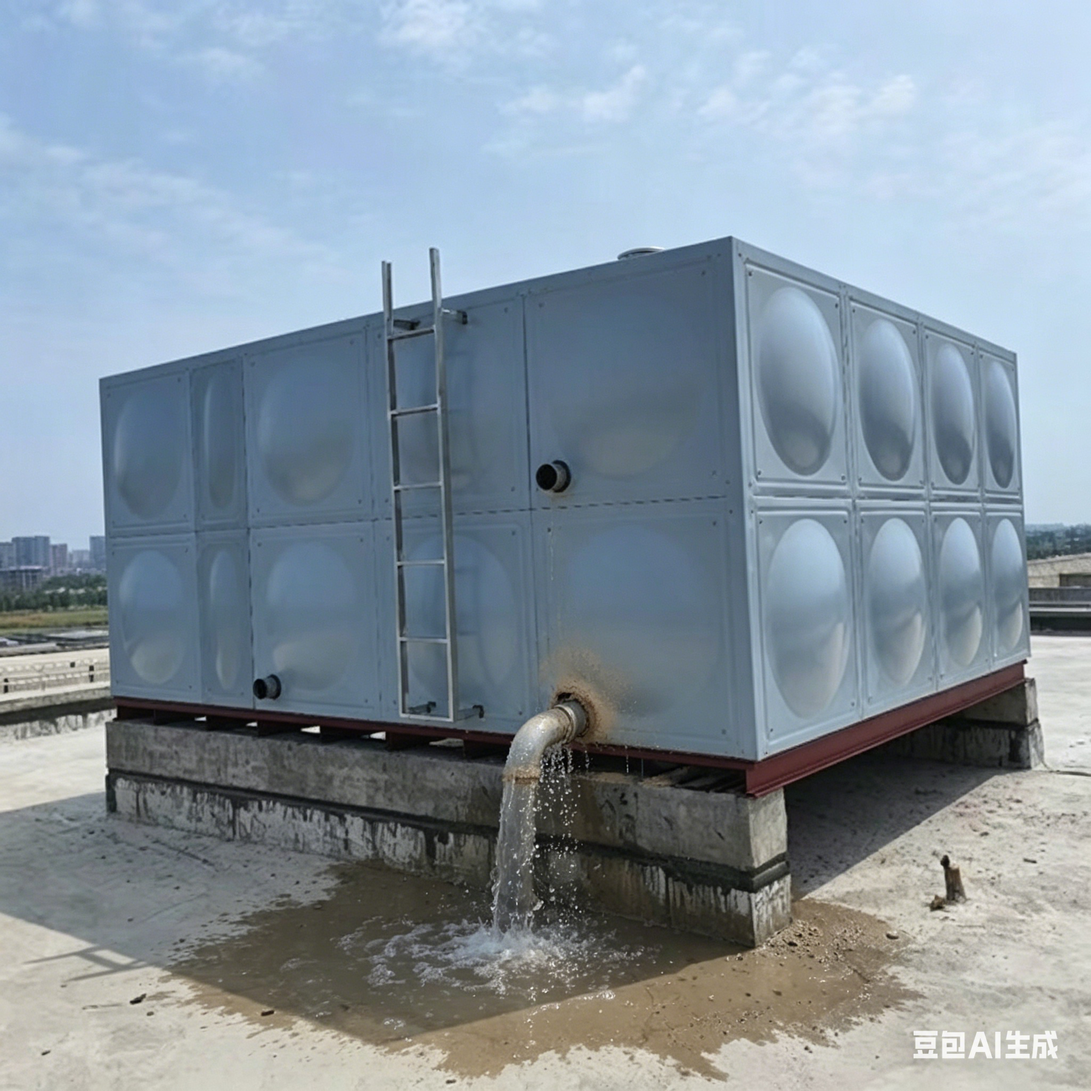Leakage: (351, 850, 876, 1055), (207, 913, 353, 1039), (443, 744, 592, 844)
